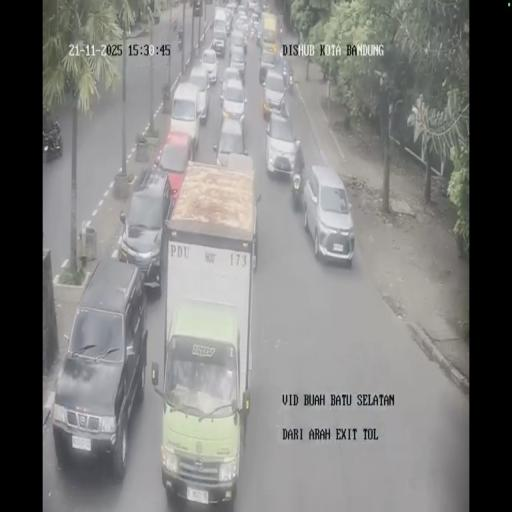car: (302, 165, 354, 265), (264, 111, 300, 181), (214, 115, 246, 169), (188, 65, 212, 116), (221, 64, 243, 100), (259, 46, 278, 82), (228, 28, 246, 64), (250, 10, 260, 31)
truck: (157, 158, 259, 500), (212, 10, 228, 54)
